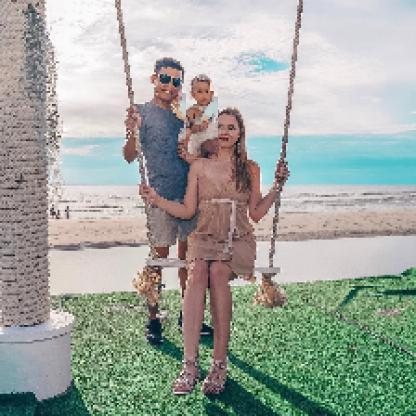child: (187, 73, 220, 161)
